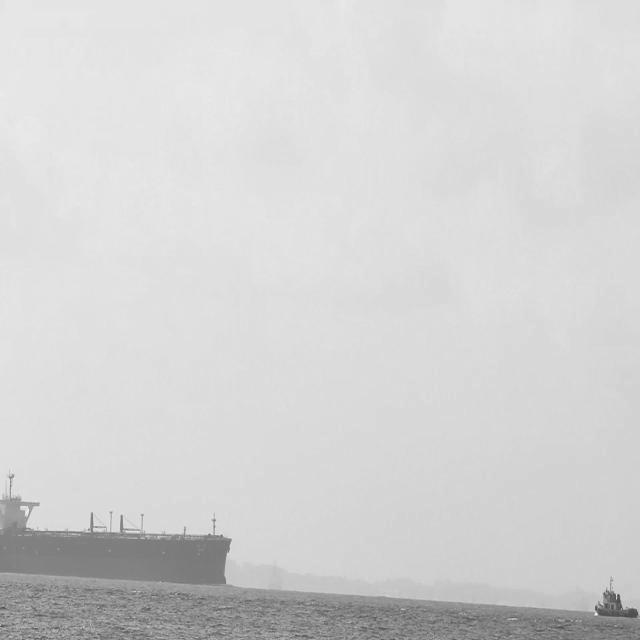ship: (0, 470, 236, 586), (596, 562, 638, 610)
